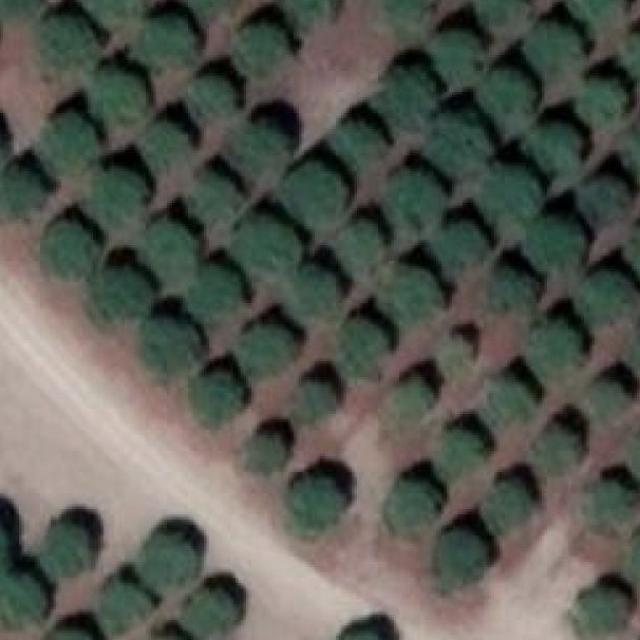Tree: (280, 160, 343, 224), (425, 113, 491, 171), (229, 218, 296, 274), (375, 67, 433, 129), (478, 166, 536, 224), (481, 71, 536, 132), (388, 171, 442, 232), (39, 116, 95, 174), (140, 534, 196, 592), (146, 221, 198, 282), (525, 324, 581, 380), (90, 171, 146, 227), (90, 70, 146, 126), (290, 481, 344, 538), (140, 322, 198, 375), (378, 272, 439, 322), (90, 272, 151, 322), (523, 26, 579, 80), (238, 328, 294, 380), (579, 274, 637, 324), (188, 269, 241, 322), (42, 224, 98, 274), (39, 15, 95, 65), (227, 127, 288, 172), (333, 218, 380, 276), (338, 322, 385, 380), (481, 379, 534, 430), (188, 174, 239, 227), (232, 25, 285, 76), (436, 222, 487, 274), (526, 124, 579, 174), (526, 222, 584, 267), (135, 18, 193, 63), (185, 588, 235, 640), (435, 530, 481, 586), (431, 34, 478, 86), (44, 525, 90, 578), (388, 482, 433, 536), (195, 372, 241, 424), (576, 180, 626, 227), (0, 574, 46, 625), (388, 377, 433, 428), (436, 430, 484, 477), (98, 583, 146, 630), (292, 269, 338, 317), (0, 167, 44, 217), (532, 425, 574, 475), (578, 79, 623, 125), (335, 121, 380, 167), (143, 124, 185, 169), (190, 76, 232, 118), (376, 0, 432, 31), (590, 382, 630, 424), (290, 382, 332, 422), (489, 483, 526, 528), (581, 594, 626, 630), (494, 270, 531, 312), (79, 0, 146, 23), (570, 0, 623, 26), (594, 480, 628, 520), (438, 338, 470, 373), (250, 438, 285, 470), (478, 0, 526, 23), (287, 0, 333, 23), (188, 0, 230, 20), (0, 0, 44, 18), (625, 126, 640, 176), (626, 533, 640, 586), (626, 226, 640, 277), (626, 324, 640, 372), (626, 34, 640, 81), (327, 630, 391, 640), (143, 630, 190, 640), (632, 427, 640, 480), (40, 632, 93, 640)
